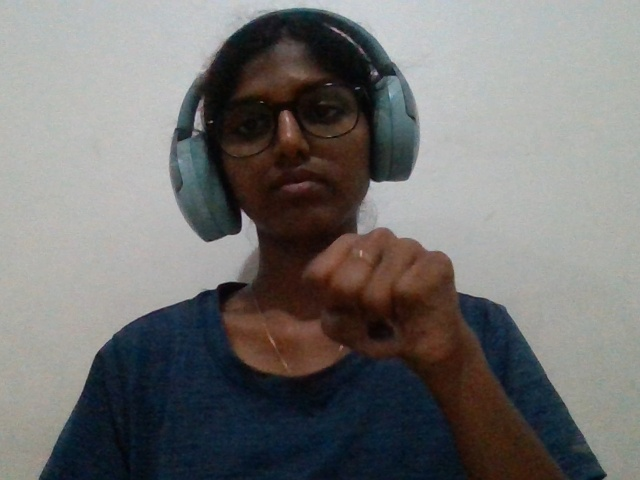Yes: (276, 210, 475, 405)
